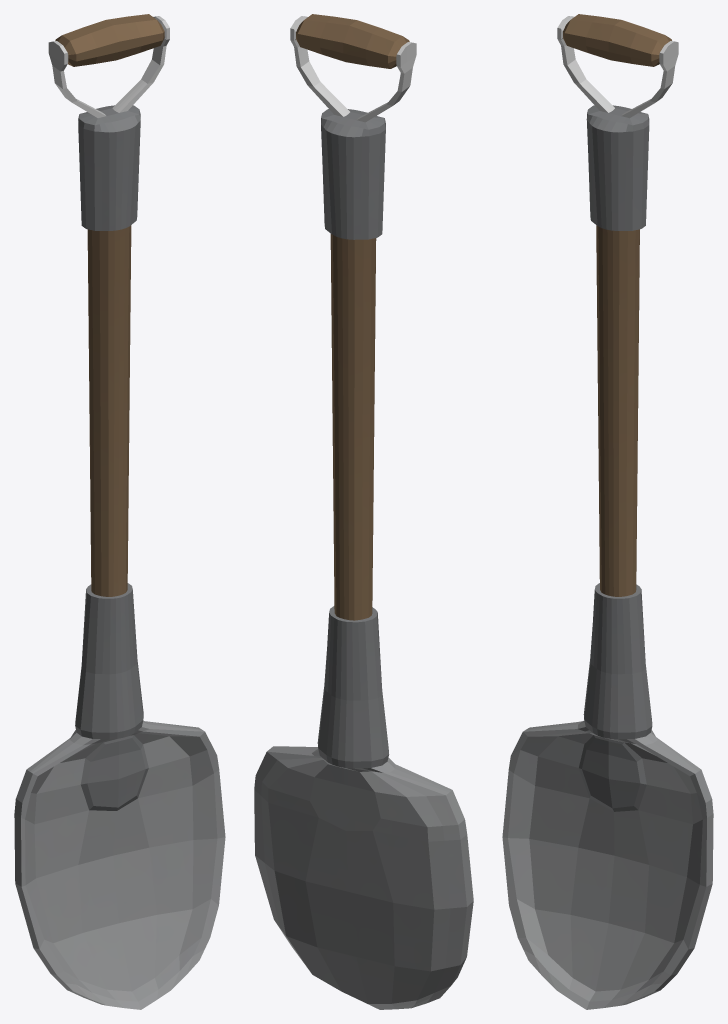
File: shovel_1.glb
3 renders of one model, left to right at view 1: azimuth 30°, elevation 25°; view 2: azimuth 150°, elevation 25°; view 3: azimuth 330°, elevation 25°, orthographic. The views are drawn at different scales.
Parts seen in each view (by area): view 1: shovel_1; view 2: shovel_1; view 3: shovel_1.
Boxes of the visible parts, x1=… form: shovel_1: x1=14, y1=14, x2=225, y2=1009; shovel_1: x1=254, y1=14, x2=473, y2=1009; shovel_1: x1=502, y1=14, x2=713, y2=1009.
Size of the model in its own units: 0.2827 by 1.28 by 0.1119.
Materials: 1 (1 with a texture image).
